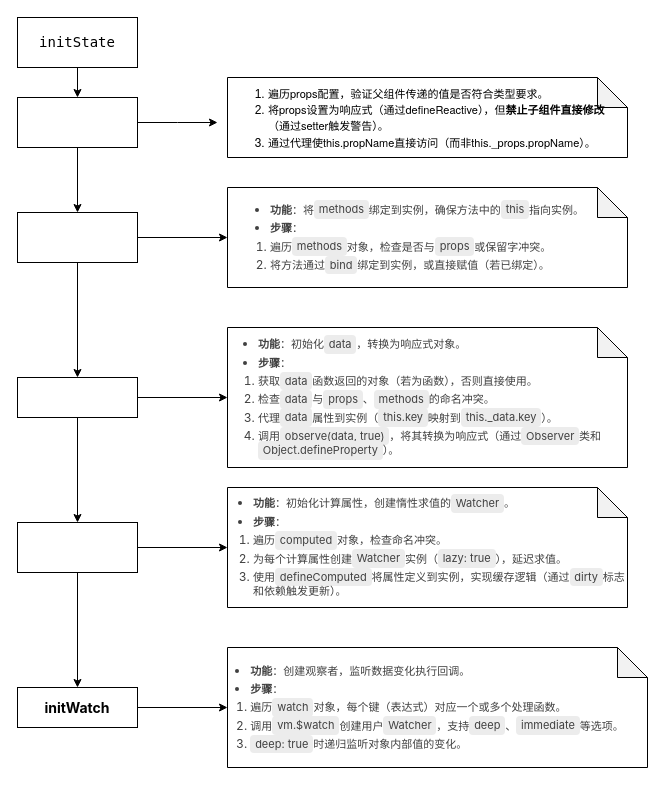
This 665x785 diagram has some shape labels left out. Here are the shapes that lost their labels. From the top down, the box of each, then its label:
(16, 96, 138, 148): initProps
(16, 212, 138, 262): initMethods
(16, 376, 138, 418): initData
(16, 522, 138, 572): initComputed
